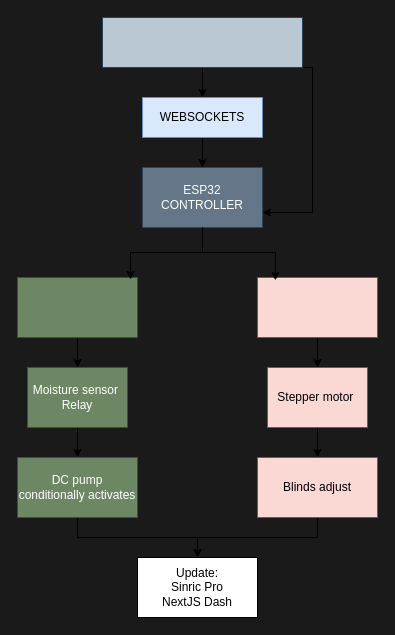
This 395x635 diagram has some shape labels left out. The shapes that lost their labels are listed below. From the top down, each one's box as (x1, y1, x2, y2) in pixels, then its label:
(102, 16, 302, 68): USER DEVICE NEXT JS DASH
(16, 276, 138, 338): IRRIGATION MODULE
(256, 276, 378, 338): SHADING MODULE
